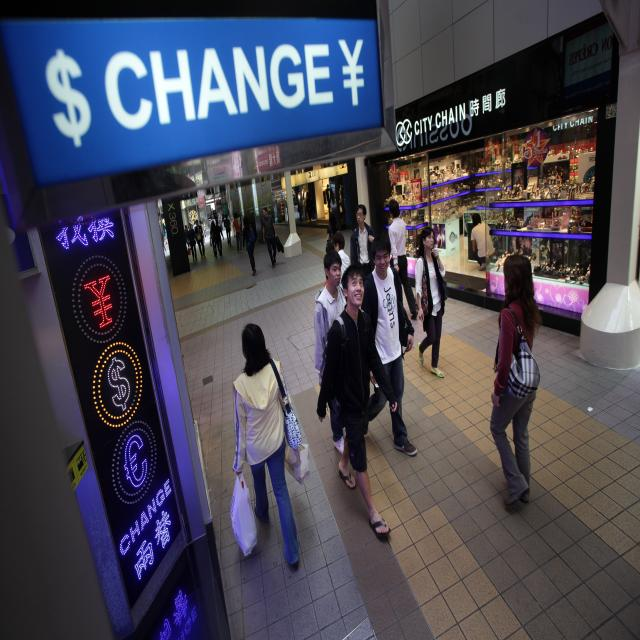body: (315, 262, 401, 544), (229, 316, 307, 576), (486, 250, 544, 512), (360, 234, 418, 458), (314, 249, 346, 455), (414, 223, 448, 379), (388, 198, 419, 320), (349, 202, 376, 276), (471, 212, 495, 271), (261, 206, 278, 269), (332, 232, 351, 286), (241, 217, 258, 277), (510, 229, 536, 257), (324, 217, 339, 254), (186, 222, 198, 262), (194, 220, 206, 258), (233, 213, 243, 253), (209, 220, 218, 259), (215, 219, 224, 257), (296, 188, 306, 219), (223, 213, 232, 246), (338, 184, 346, 216), (324, 184, 332, 215), (306, 192, 312, 224), (184, 224, 190, 248), (200, 220, 206, 243), (161, 231, 167, 252), (193, 221, 198, 243), (218, 211, 223, 231), (211, 214, 216, 226)
